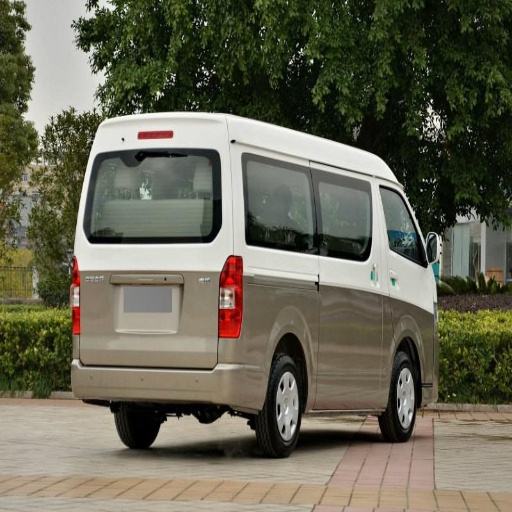back_bumper: (72, 337, 227, 400)
back_right_door: (240, 152, 403, 281)
trunk: (83, 246, 409, 404)
